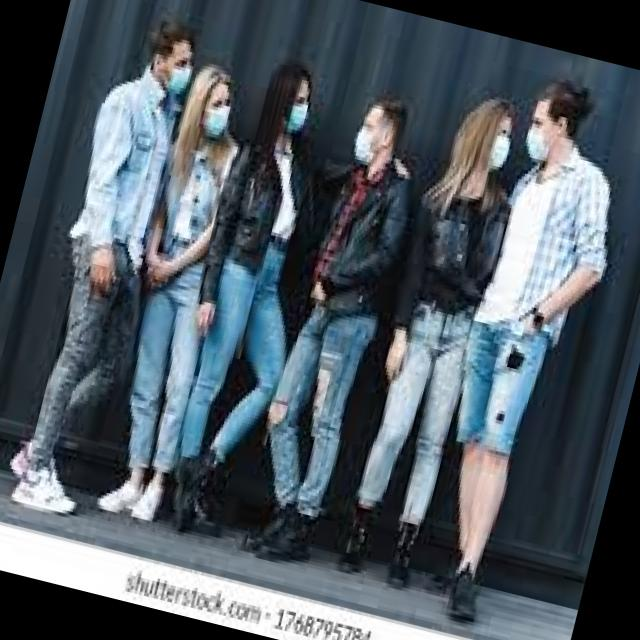Jacket: (383, 160, 522, 368), (192, 121, 328, 324), (294, 148, 418, 336)
